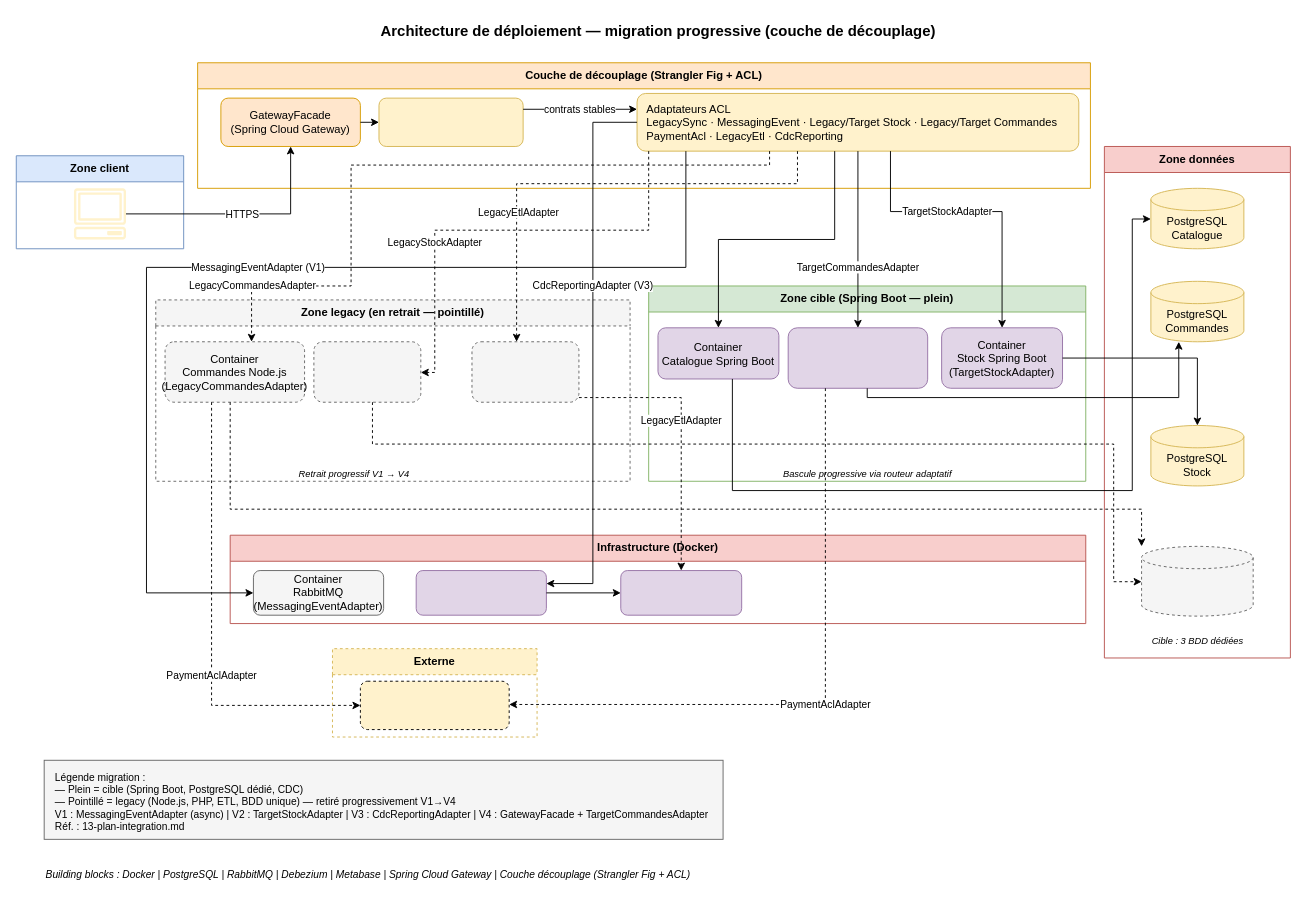
Image size: 1307x906. Some labels were removed from this diagram. Each missing label, with the centre of its shape:
API Paiement (prestataire tiers) via PaymentAclAdapter: pixel 434 705
BDD unique partagée (legacy) en décommission V4: pixel 1197 580
Container Commandes Spring Boot (TargetCommandesAdapter): pixel 857 357
Container Debezium (CdcReportingAdapter): pixel 480 592
Container ETL Python (LegacyEtlAdapter): pixel 525 371
Container Metabase: pixel 681 592
Container Stock PHP (LegacyStockAdapter): pixel 367 371
Navigateur (React / Angular): pixel 99 213
Routeur adaptatif (feature flags, %): pixel 450 121
